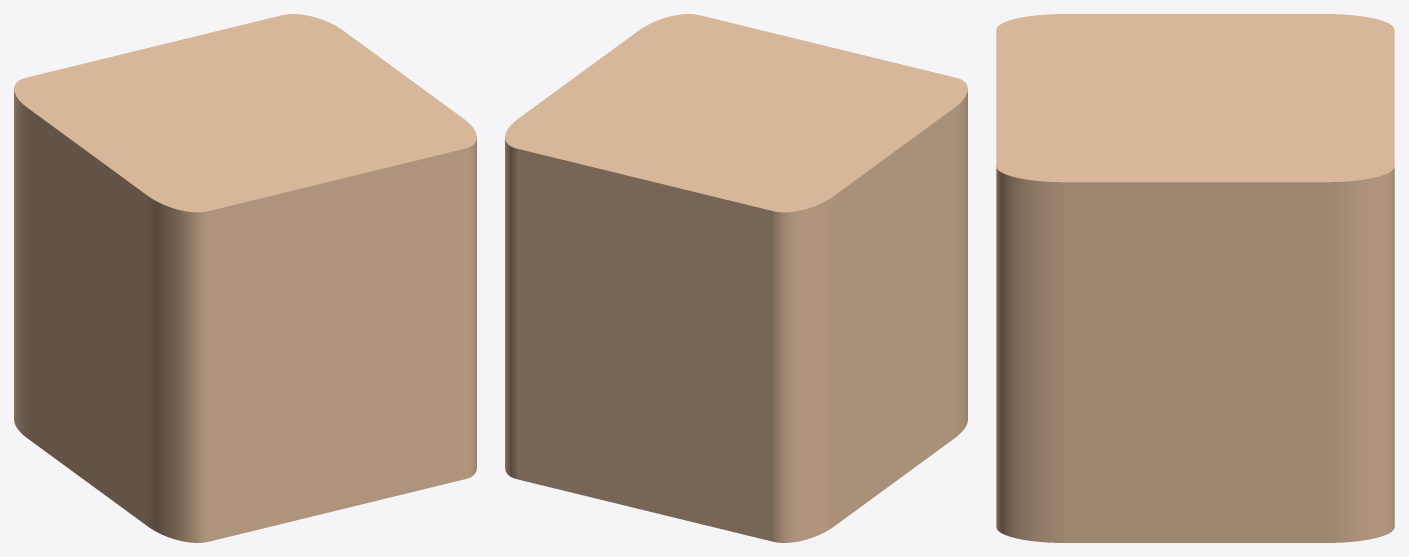
Rendered from kn-rug-doormat.glb.
The picture shows the model from 3 angles, left to right: view 1: azimuth 30°, elevation 25°; view 2: azimuth 150°, elevation 25°; view 3: azimuth 270°, elevation 25°; orthographic projection. The views are drawn at different scales.
Parts seen in each view (by area): view 1: rugDoormat(Clone); view 2: rugDoormat(Clone); view 3: rugDoormat(Clone).
Part boxes in pixels (x1,y1,x2,y2): rugDoormat(Clone): [14, 14, 476, 542]; rugDoormat(Clone): [505, 14, 967, 542]; rugDoormat(Clone): [996, 14, 1394, 542].
Size of the model in its own units: 1 by 1 by 1.
